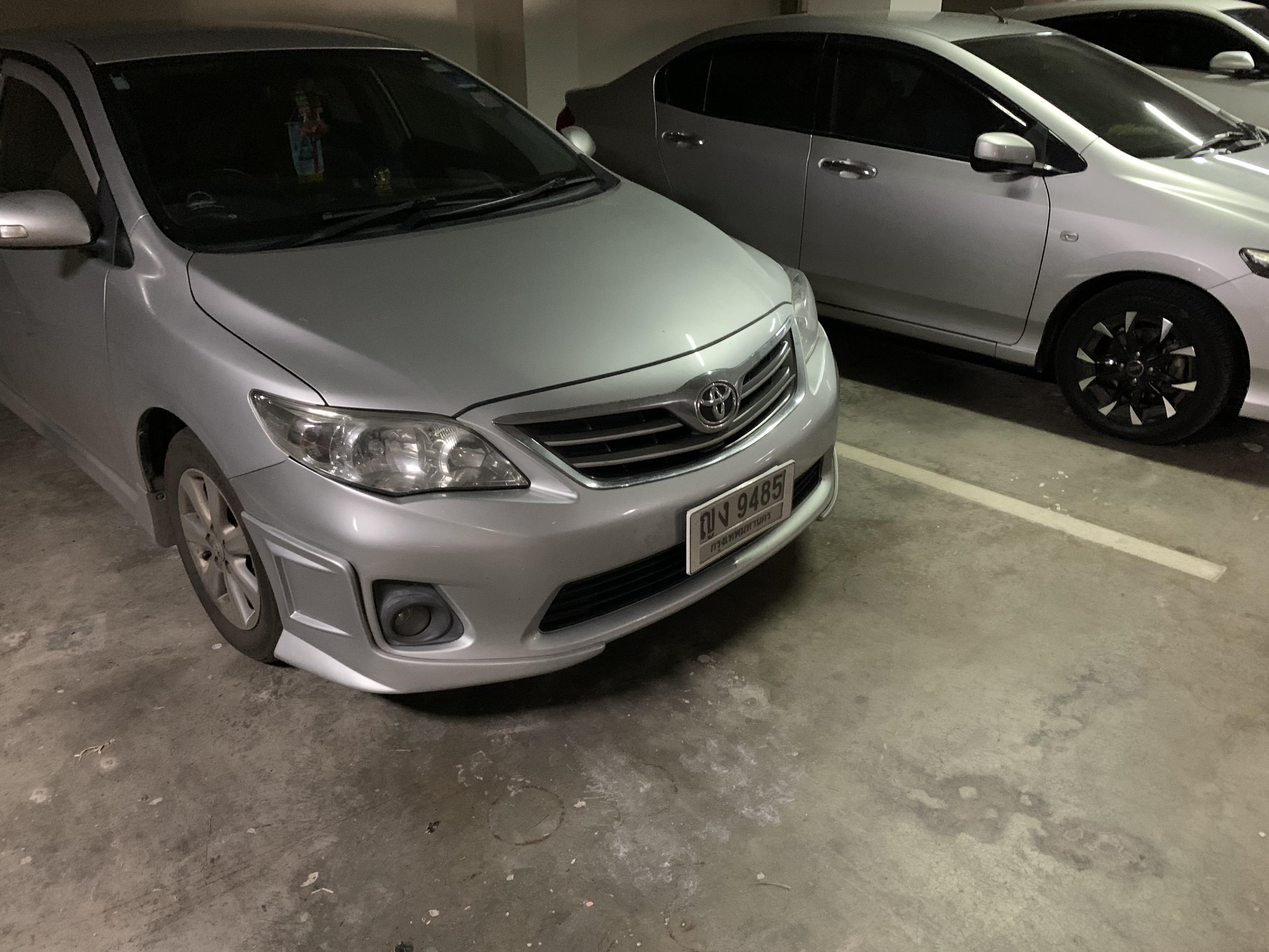license-plate: (681, 455, 800, 580)
